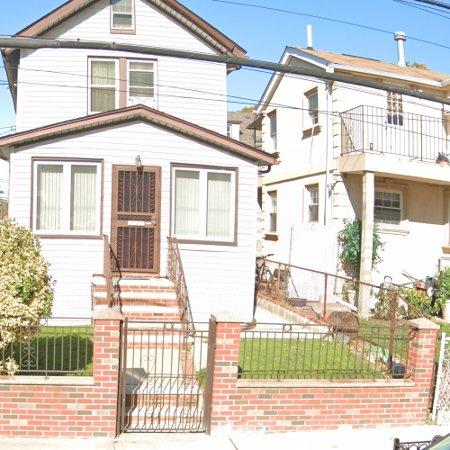chimneys: (395, 31, 408, 67)
